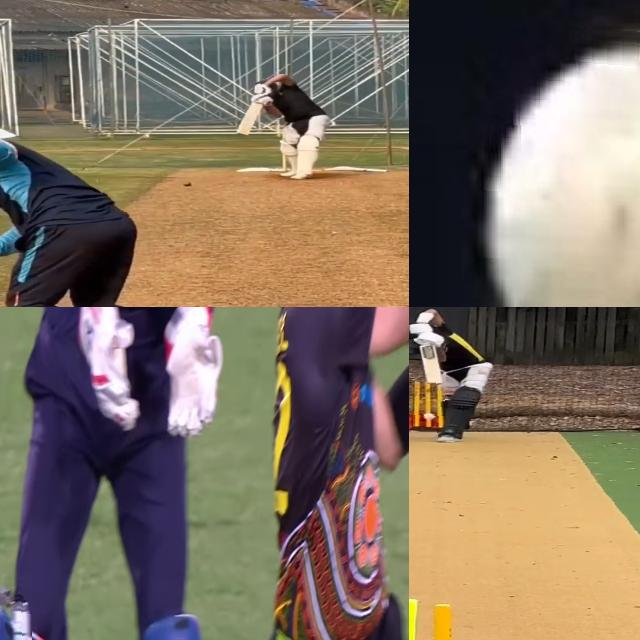Cricket ball: (464, 20, 640, 307), (422, 412, 436, 420), (183, 181, 193, 187)
Stumps: (413, 381, 445, 433)
